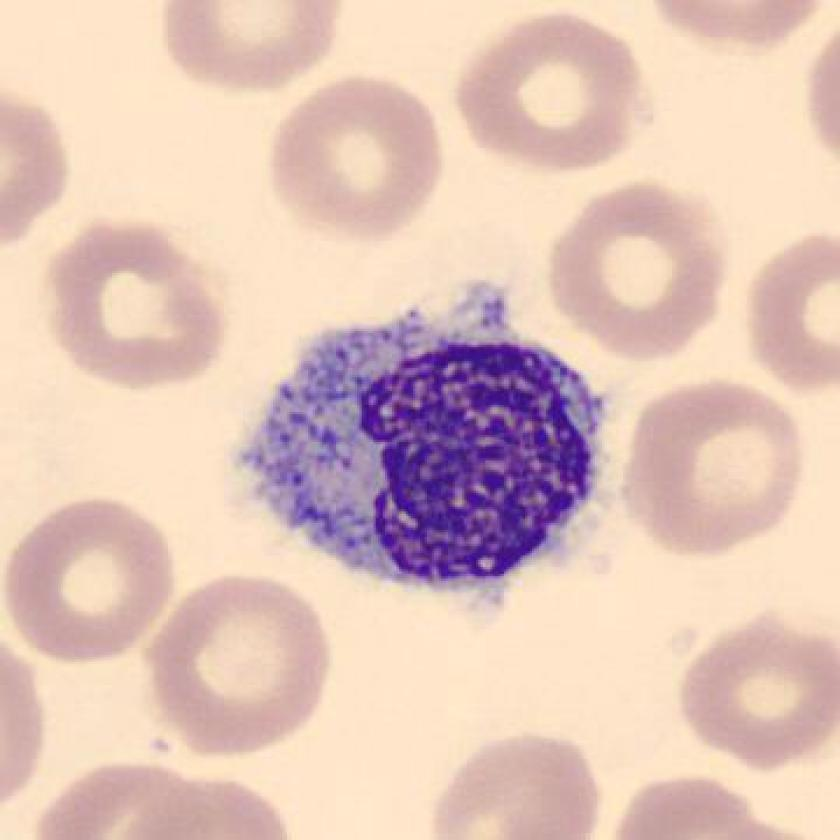monocyte: (230, 270, 636, 621)
